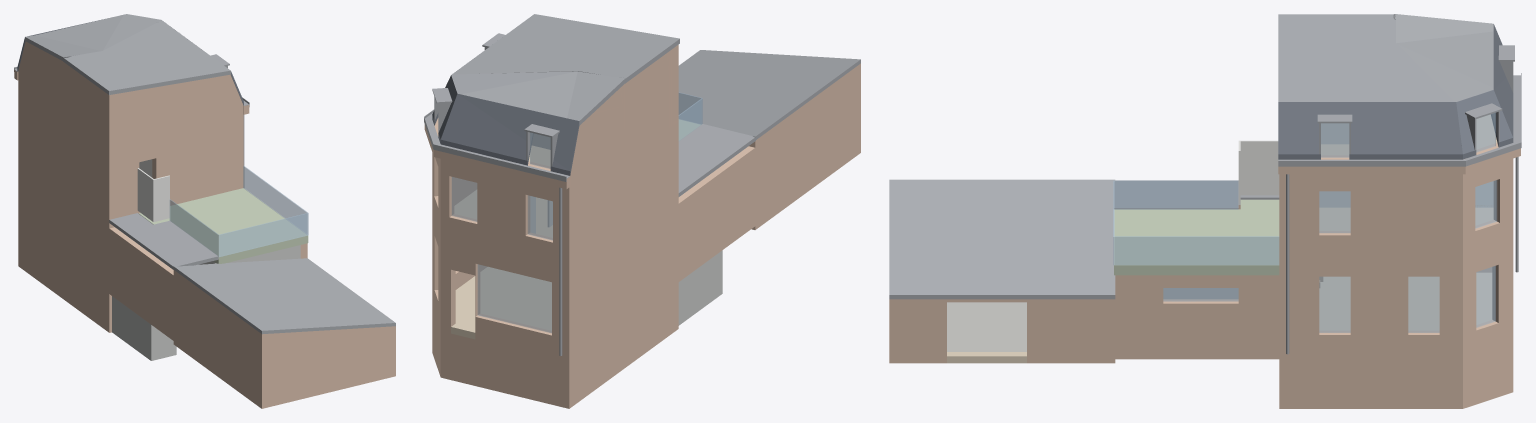
Rendered from maison_variante_poteau.gltf.
3 renders of one model, left to right at view 1: azimuth 30°, elevation 25°; view 2: azimuth 150°, elevation 25°; view 3: azimuth 270°, elevation 25°, orthographic. The views are drawn at different scales.
Parts seen in each view (by area): view 1: 1-toiture-garage, 0I, 2C, 1C, 0H, T-pan-cote-b, 0D, 1-terrasse-projet, 1D, 2D, 0E, 1-terrasse-projet-garde-corps (+10 smaller); view 2: 1-toiture-garage, 0H, 0D, T-pan-cote-b, 1D, 1A, 2D, 0E, 0A, SA, T-brisis-cote-a, SD (+23 smaller); view 3: 1-toiture-garage, 1B, 0B, 0F, T-pan-cote-b, 1-terrasse-projet, 0J, SB, T-brisis-cote-b, 1-terrasse-projet-garde-corps, 0-garage, 0-salon (+29 smaller).
Boxes of the visible parts, bbox=[...] form: 1-toiture-garage: bbox=[173, 258, 395, 334]; 0I: bbox=[262, 326, 395, 408]; 2C: bbox=[109, 74, 243, 159]; 1C: bbox=[109, 127, 243, 219]; 0H: bbox=[173, 270, 261, 408]; T-pan-cote-b: bbox=[63, 20, 230, 94]; 0D: bbox=[18, 156, 109, 293]; 1-terrasse-projet: bbox=[139, 188, 308, 263]; 1D: bbox=[18, 93, 109, 222]; 2D: bbox=[18, 41, 109, 158]; 0E: bbox=[109, 227, 173, 340]; 1-terrasse-projet-garde-corps: bbox=[169, 166, 308, 256]; 1-toiture-garage: bbox=[678, 50, 860, 139]; 0H: bbox=[749, 63, 860, 229]; 0D: bbox=[569, 197, 678, 361]; T-pan-cote-b: bbox=[452, 14, 679, 83]; 1D: bbox=[569, 121, 678, 276]; 1A: bbox=[440, 170, 569, 277]; 2D: bbox=[569, 45, 678, 200]; 0E: bbox=[678, 146, 755, 281]; 0A: bbox=[440, 246, 569, 362]; SA: bbox=[440, 331, 569, 408]; T-brisis-cote-a: bbox=[440, 93, 579, 175]; SD: bbox=[569, 282, 678, 408]; 1-toiture-garage: bbox=[889, 179, 1115, 299]; 1B: bbox=[1279, 187, 1462, 268]; 0B: bbox=[1279, 268, 1462, 359]; 0F: bbox=[1115, 275, 1279, 359]; T-pan-cote-b: bbox=[1278, 14, 1454, 101]; 1-terrasse-projet: bbox=[1114, 199, 1279, 275]; 0J: bbox=[889, 299, 1115, 363]; SB: bbox=[1279, 359, 1462, 408]; T-brisis-cote-b: bbox=[1278, 102, 1462, 159]; 1-terrasse-projet-garde-corps: bbox=[1113, 180, 1279, 265]; 0-garage: bbox=[947, 302, 1026, 351]; 0-salon: bbox=[1319, 273, 1491, 330].
Size of what is drawn, in the model's own units: 6.62 by 11.02 by 20.13.
